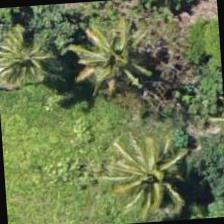Kelapa_Sawit: (66, 9, 162, 105), (98, 129, 195, 223)
